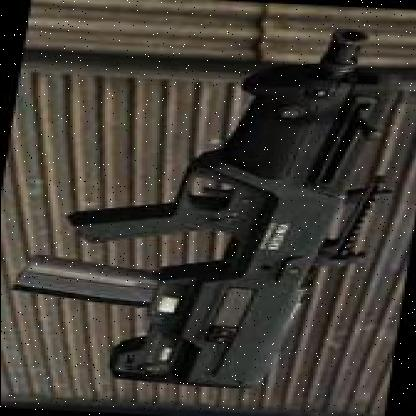rifle: (3, 18, 408, 400)
